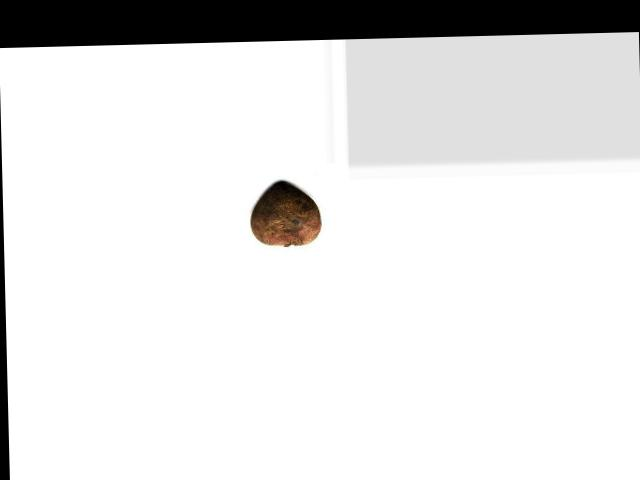beet: (249, 180, 322, 246)
